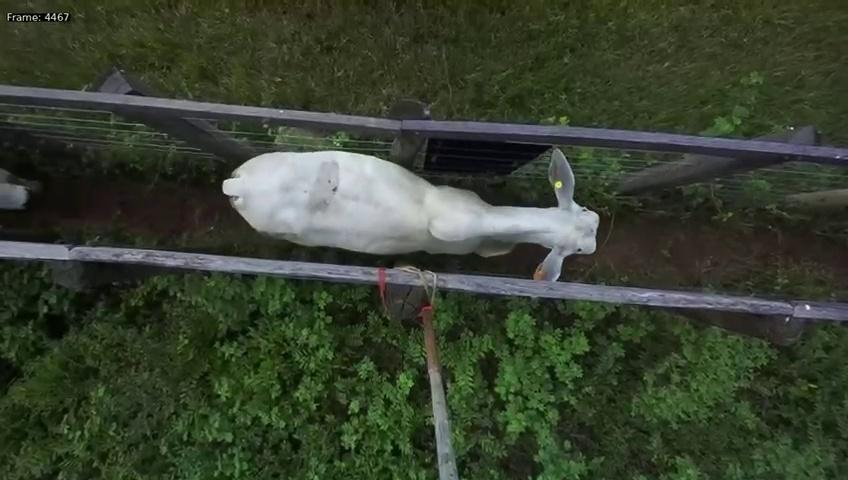cattle: (216, 143, 600, 281)
